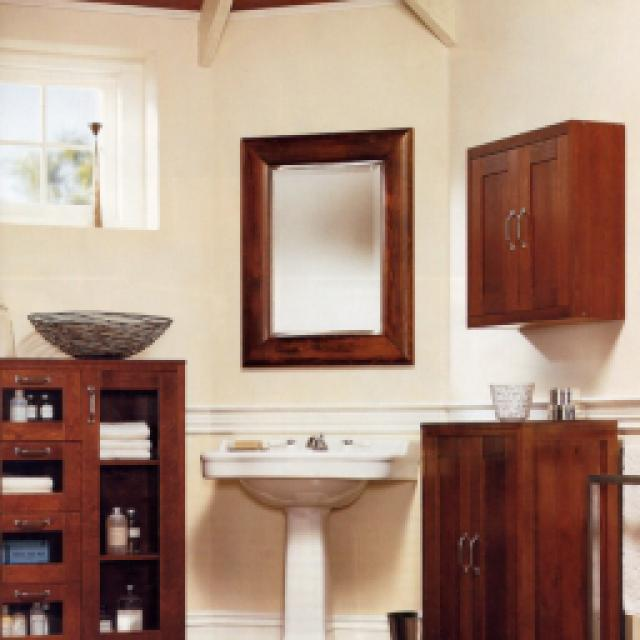2001: (0, 45, 145, 225)
basket crop: (25, 308, 170, 355), (485, 380, 530, 415)
bottle crop: (110, 575, 140, 625), (102, 502, 122, 548), (122, 505, 142, 548), (25, 600, 45, 628), (542, 382, 558, 415), (8, 388, 25, 415), (560, 385, 575, 415), (35, 390, 50, 412), (0, 600, 10, 630)
cabinet door: (0, 353, 182, 635), (418, 418, 618, 635), (462, 118, 620, 328)
candle holder: (82, 120, 102, 220)
mirror crop: (240, 128, 410, 368)
sink basin: (195, 435, 418, 635)
sink occluded: (285, 425, 350, 448)
soap bottle: (225, 435, 265, 448)
towels: (100, 420, 148, 452), (0, 472, 50, 488)
